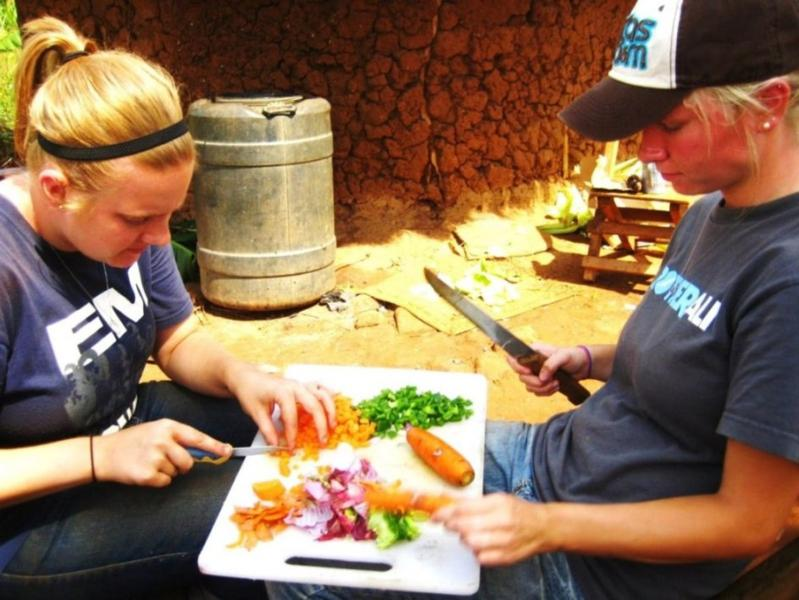person: (3, 17, 344, 599)
